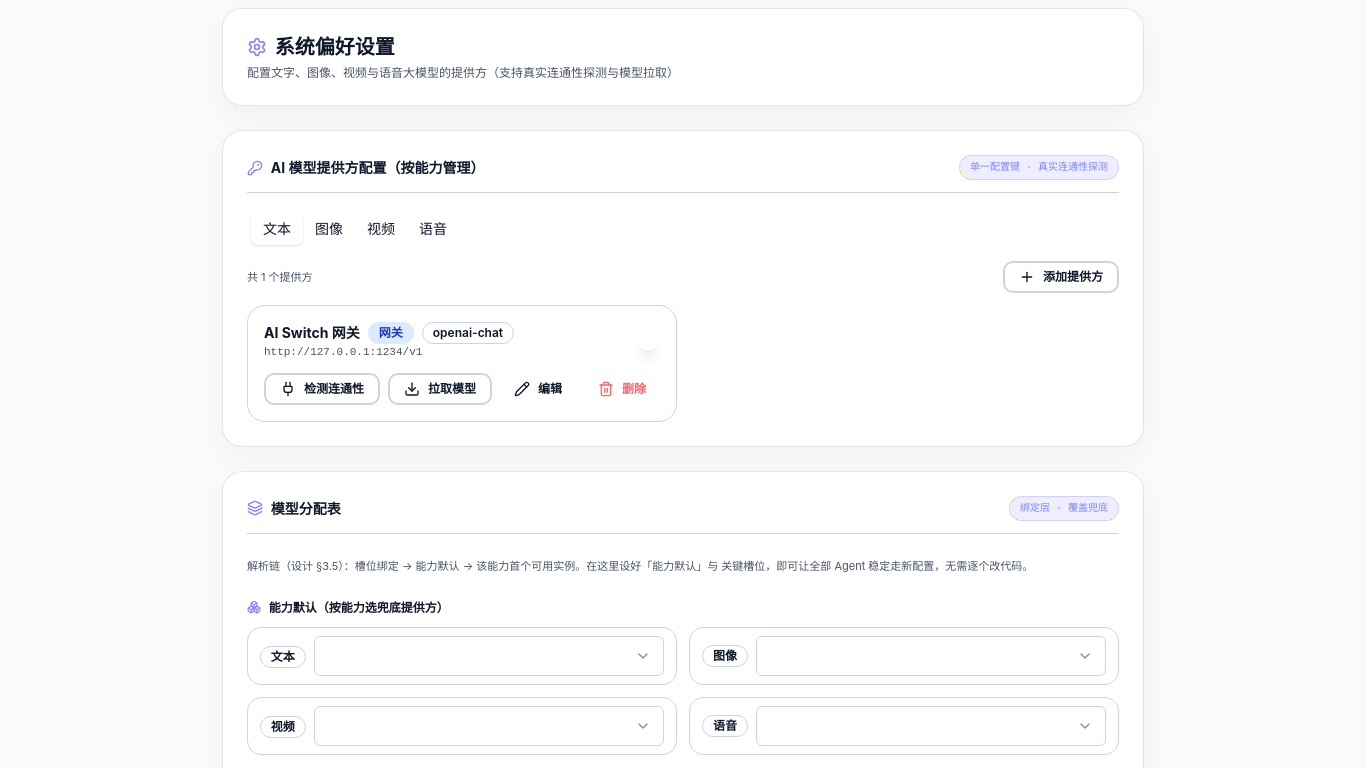
Test: ModelProviderSettings 网关优先（P9） › 网关实例显示「网关」徽标；添加 Dialog 出现「从模板开始」
Expected: the text "AI Switch 网关" is shown, [264,323,360,343]
Expected: the text "网关" is shown, [368,322,414,344]
Note: 打开「添加提供方」Dialog → 出现「从模板开始」
Click the button "添加提供方".
click(1061, 277)  # box [1003,261,1119,293]
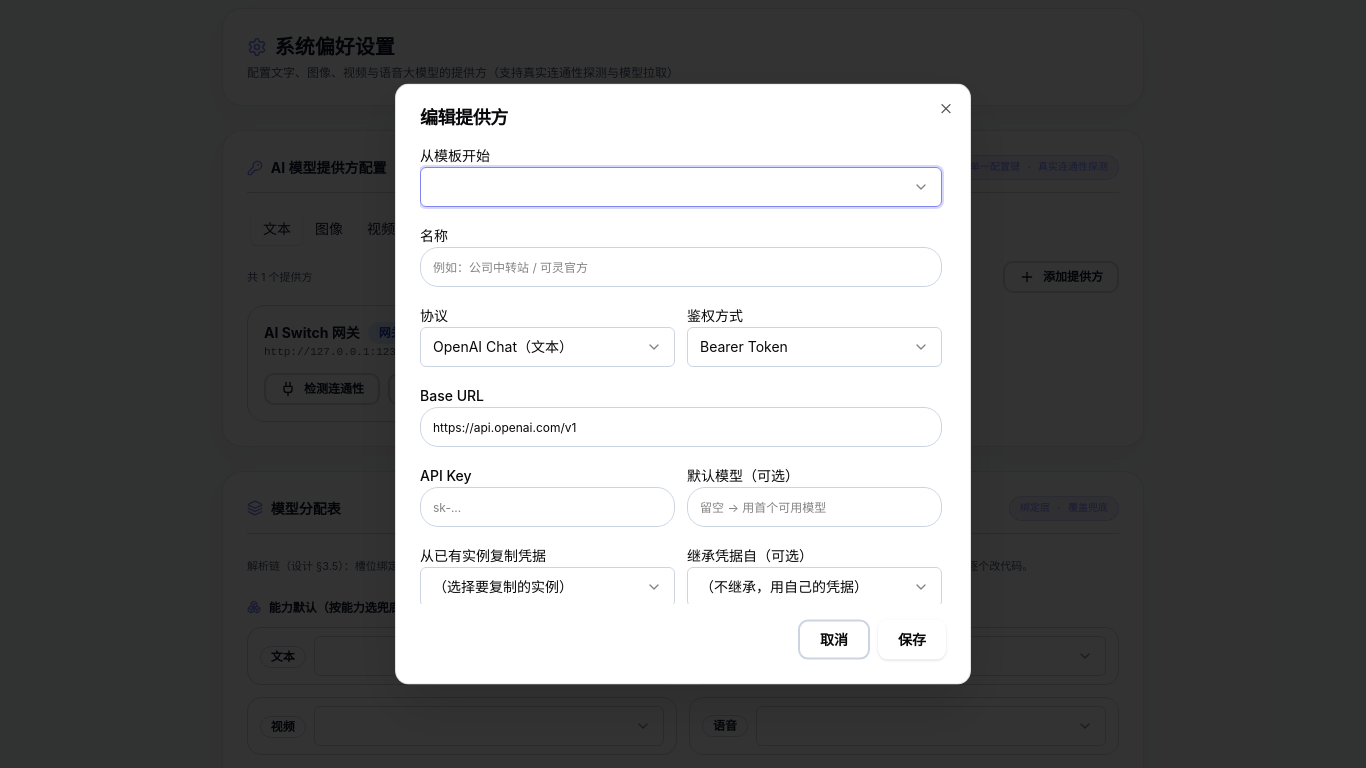
Expected: the text "从模板开始" is shown, [420,147,490,164]
